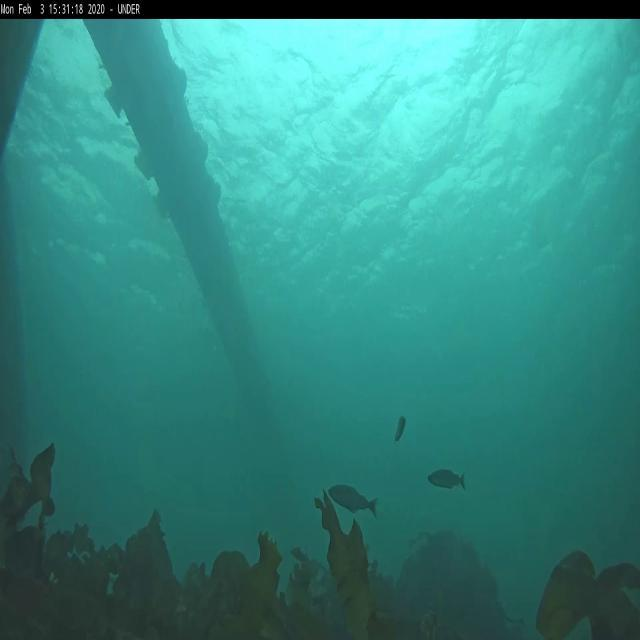fish: (328, 484, 378, 516), (429, 470, 465, 494), (394, 415, 407, 443)
